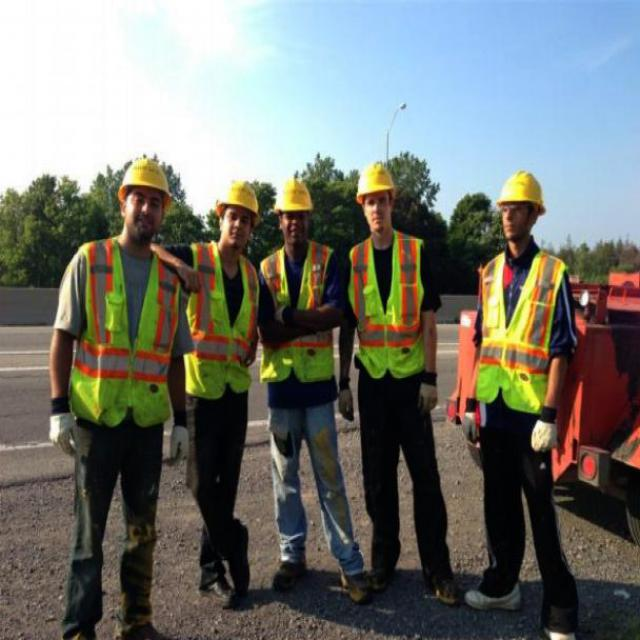gloves: (34, 392, 88, 457), (158, 409, 198, 477), (528, 401, 570, 459), (411, 371, 448, 418), (451, 400, 485, 447), (333, 385, 363, 430)
helmet: (107, 145, 177, 252), (488, 164, 548, 264), (269, 166, 318, 259), (351, 162, 404, 246), (215, 155, 249, 261)
vest: (70, 245, 187, 426), (472, 249, 565, 403), (347, 244, 436, 372), (255, 246, 338, 382), (187, 238, 259, 394)
